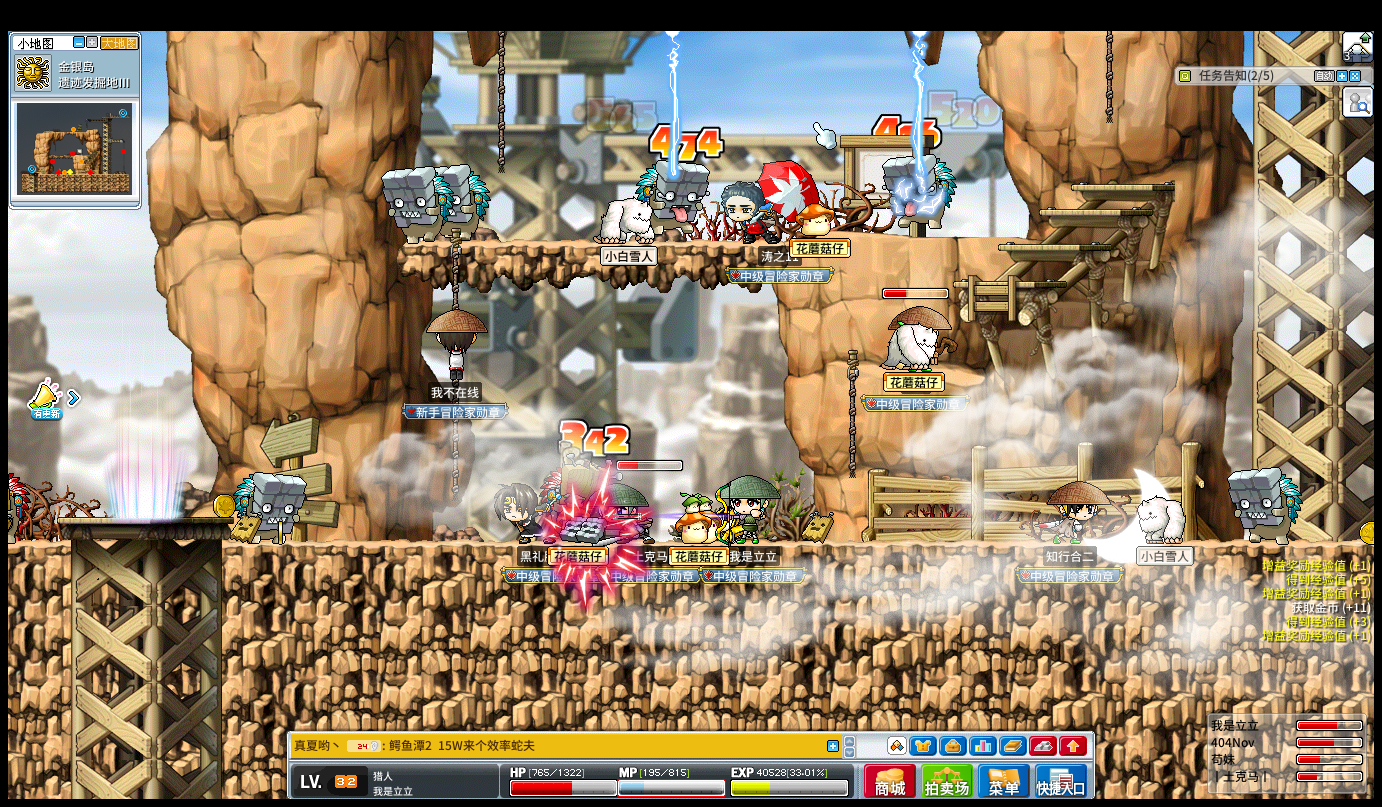floor: (408, 237, 792, 250), (834, 231, 1036, 243), (55, 515, 232, 525), (942, 279, 1064, 289), (1038, 207, 1154, 215), (1069, 184, 1175, 192), (1000, 243, 1119, 250), (6, 540, 69, 551)
monster: (379, 165, 454, 245), (636, 160, 711, 240), (882, 153, 956, 234), (1227, 467, 1303, 543), (233, 472, 305, 543), (444, 166, 489, 243)
rope: (492, 30, 505, 165), (846, 352, 857, 479), (448, 232, 461, 309), (1104, 31, 1114, 122)
